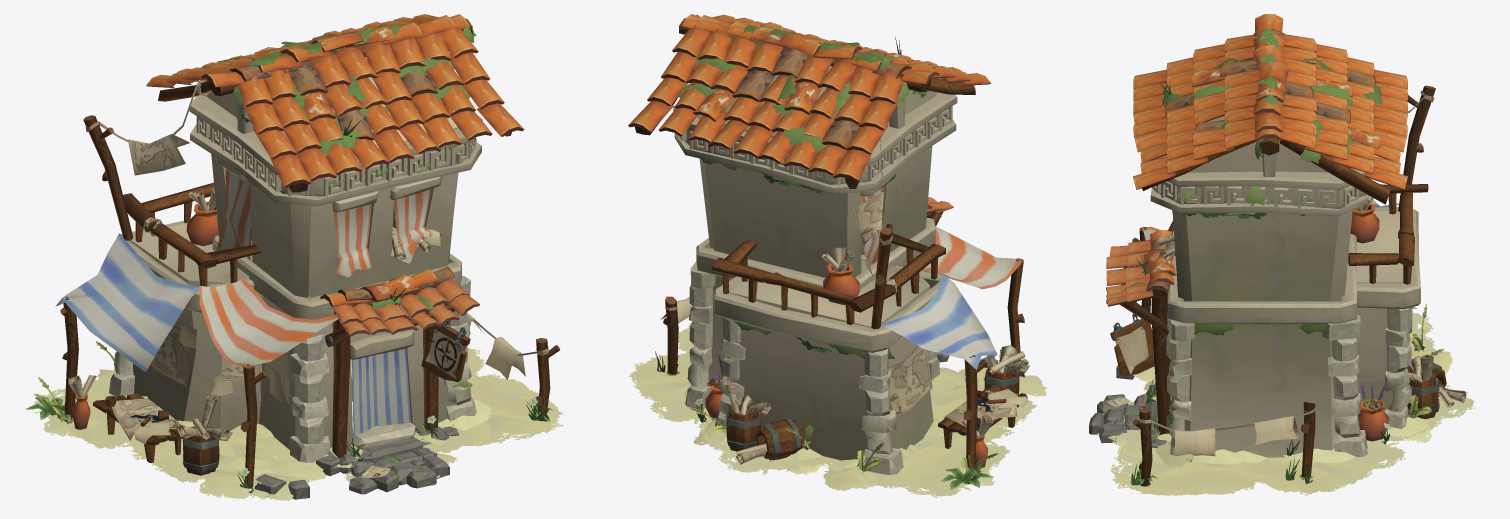
Rendered from Greek_Cartographer.fbx.
3 views of the same model, side by side, from view 1: azimuth 30°, elevation 25°; view 2: azimuth 150°, elevation 25°; view 3: azimuth 270°, elevation 25° (orthographic). The views are drawn at different scales.
Parts seen in each view (by area): view 1: Object226, Cylinder002, Plane010, Plane011, Box038, Plane081, Plane016, Plane070, Box007, Plane012, Plane008, Plane072 (+65 smaller); view 2: Object226, Box008, Box038, Plane010, Plane072, Object326, Object325, Plane011, Plane082, Box007, Plane070, Plane031 (+60 smaller); view 3: Object226, Cylinder002, Box038, Box007, Plane081, Plane082, Object325, Object327, Object324, Box008, Object221, Cylinder005 (+28 smaller).
Boxes of the visible parts, x1,y1,x2,y2 form: Object226: (130,57,458,449); Cylinder002: (320,266,479,457); Plane010: (55,233,199,372); Plane011: (199,278,338,367); Box038: (189,91,482,206); Plane081: (422,373,564,453); Plane016: (352,348,410,436); Plane070: (117,429,297,482); Box007: (212,217,461,319); Plane012: (333,204,373,277); Plane008: (216,169,251,259); Plane072: (34,376,124,449); Object226: (697,54,936,460); Box008: (713,266,941,352); Box038: (673,92,957,194); Plane010: (881,274,997,369); Plane072: (826,432,1010,497); Object326: (859,348,903,475); Object325: (685,261,715,409); Plane011: (905,226,1021,289); Plane082: (628,353,709,424); Box007: (696,217,935,289); Plane070: (918,375,1036,452); Plane031: (889,346,932,416); Object226: (1172,93,1406,458); Cylinder002: (1106,230,1176,435); Box038: (1150,142,1368,216); Box007: (1167,230,1356,324); Plane081: (1111,429,1256,495); Plane082: (1219,439,1405,495); Object325: (1322,315,1367,456); Object327: (1384,307,1412,428); Object324: (1166,313,1194,462); Box008: (1357,206,1420,308); Object221: (1280,140,1389,204); Cylinder005: (1398,85,1435,211).
Size of the model in its own units: 84.16 by 70.15 by 71.15.
Materials: 2 (2 with a texture image).
